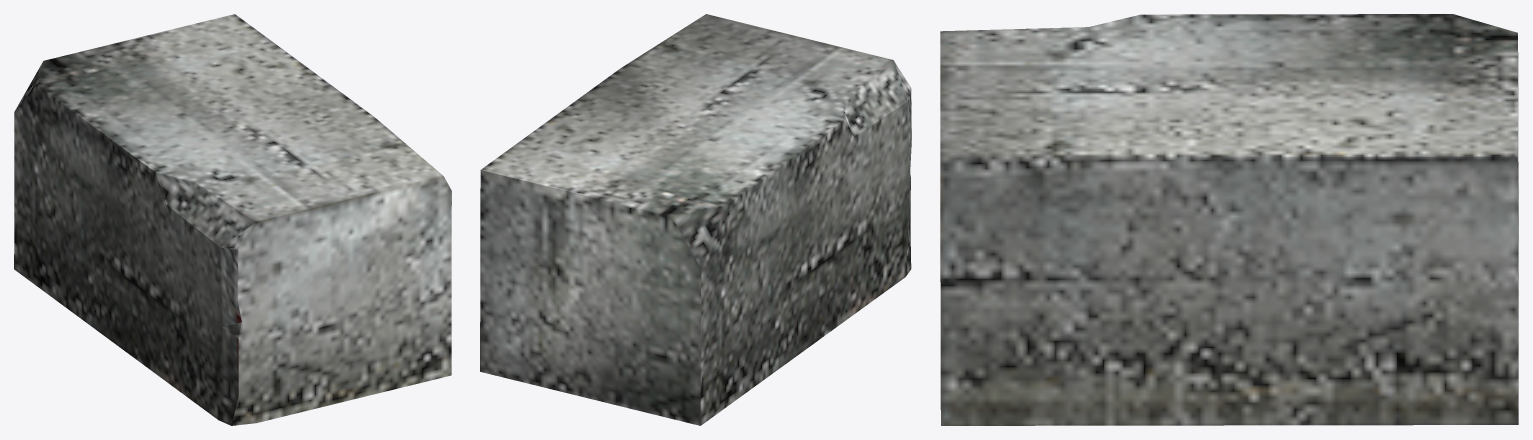
File: Pier.FBX
3 views of the same model, side by side, from view 1: azimuth 30°, elevation 25°; view 2: azimuth 150°, elevation 25°; view 3: azimuth 270°, elevation 25° (orthographic). The views are drawn at different scales.
Visible parts, largest first — view 1: Pier; view 2: Pier; view 3: Pier.
Boxes of the visible parts, x1=… form: Pier: x1=14, y1=14, x2=451, y2=425; Pier: x1=480, y1=14, x2=911, y2=425; Pier: x1=940, y1=14, x2=1518, y2=425.
Size of the model in its own units: 78.63 by 68.9 by 134.
